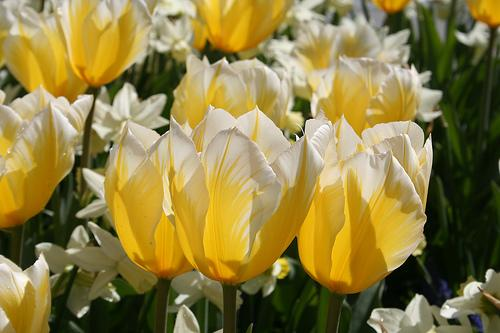tulip: (175, 107, 303, 283), (303, 119, 431, 294), (105, 119, 203, 280), (0, 99, 80, 229), (54, 0, 152, 88)
